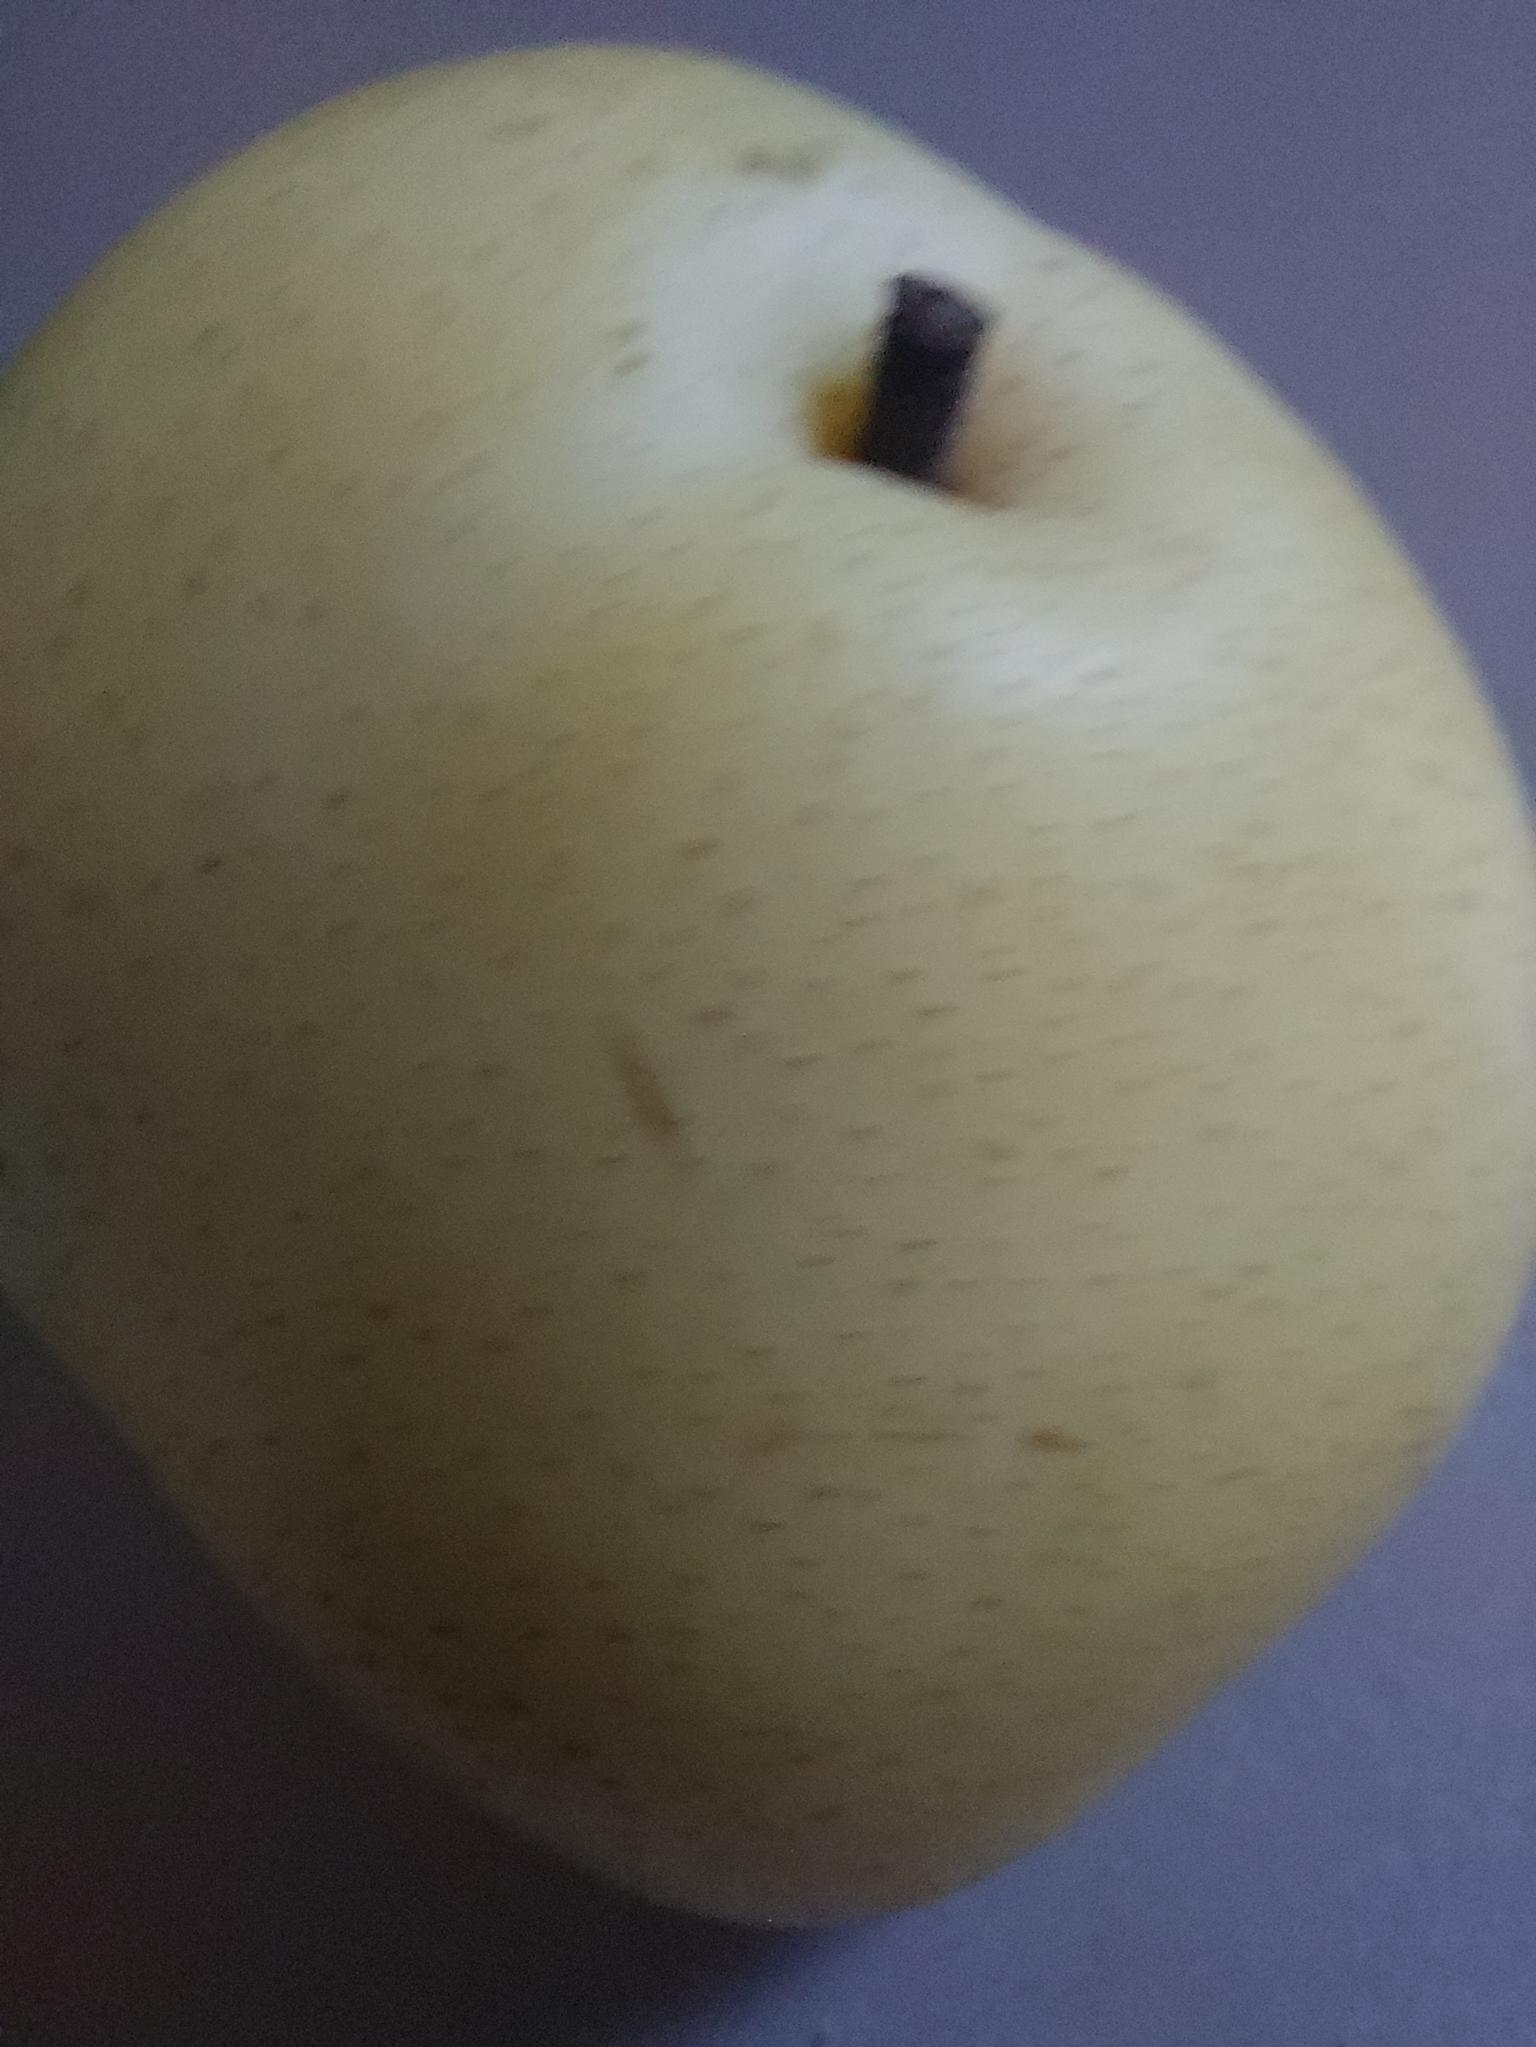Good Pear: (0, 29, 1536, 1965)
